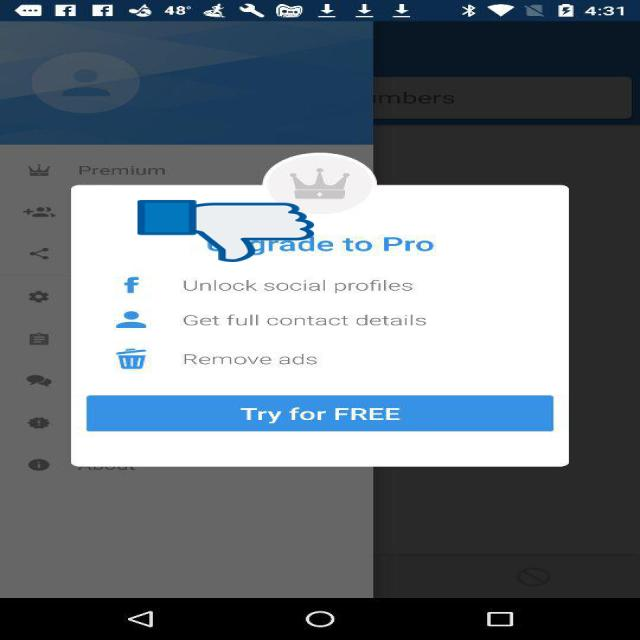obstruction: (138, 199, 314, 263)
